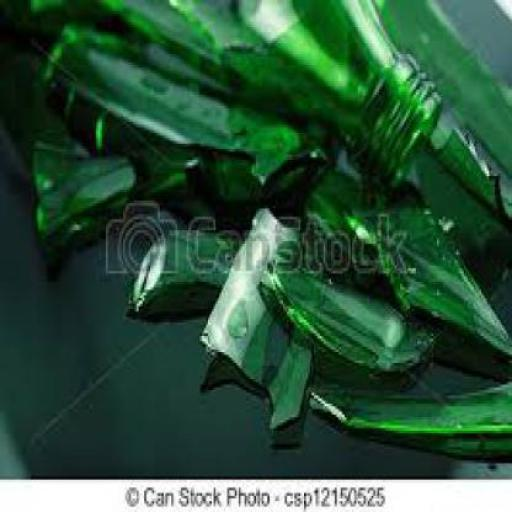glass: (94, 0, 441, 185), (42, 18, 326, 200), (343, 187, 510, 388), (369, 0, 511, 223), (4, 41, 190, 198), (268, 241, 435, 377), (196, 203, 292, 382), (306, 374, 510, 458), (198, 289, 310, 442), (402, 148, 510, 288), (30, 144, 135, 268), (123, 224, 249, 320), (0, 0, 110, 52)
